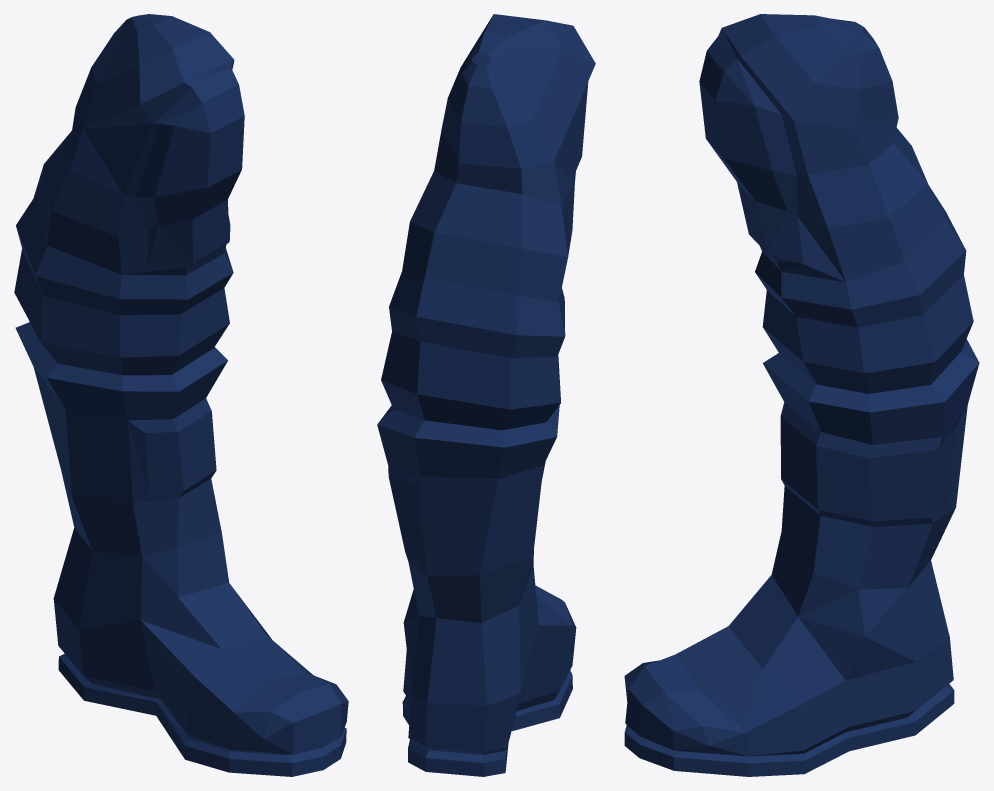
File: left_calf.fbx
3 renders of one model, left to right at view 1: azimuth 30°, elevation 25°; view 2: azimuth 150°, elevation 25°; view 3: azimuth 270°, elevation 25°, orthographic.
Visible parts, largest first — view 1: left_leg_calf; view 2: left_leg_calf; view 3: left_leg_calf.
Boxes of the visible parts, box(x1,y1,x2,y2) form: left_leg_calf: box(14, 14, 348, 776); left_leg_calf: box(377, 14, 595, 776); left_leg_calf: box(624, 14, 979, 776).
Size of the model in its own units: 0.2119 by 0.6534 by 0.2983.
